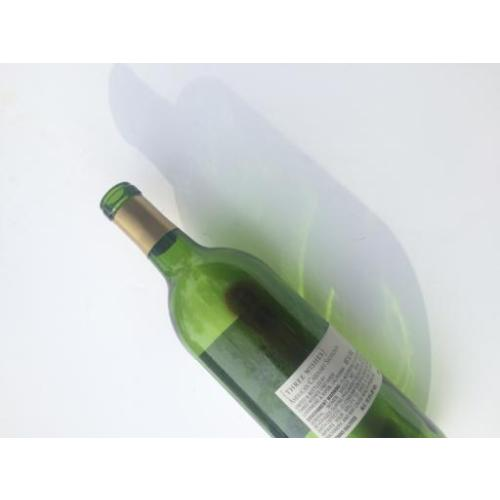glass: (101, 183, 429, 436)
